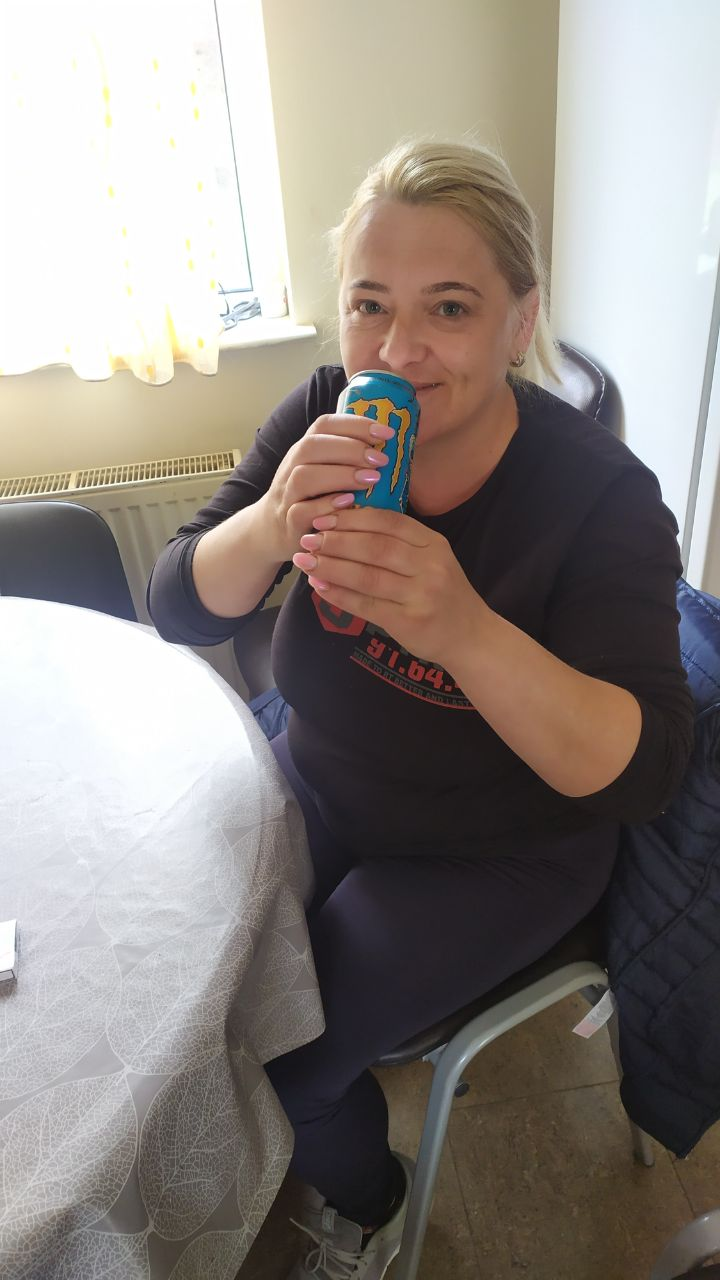Can: (331, 373, 416, 539)
